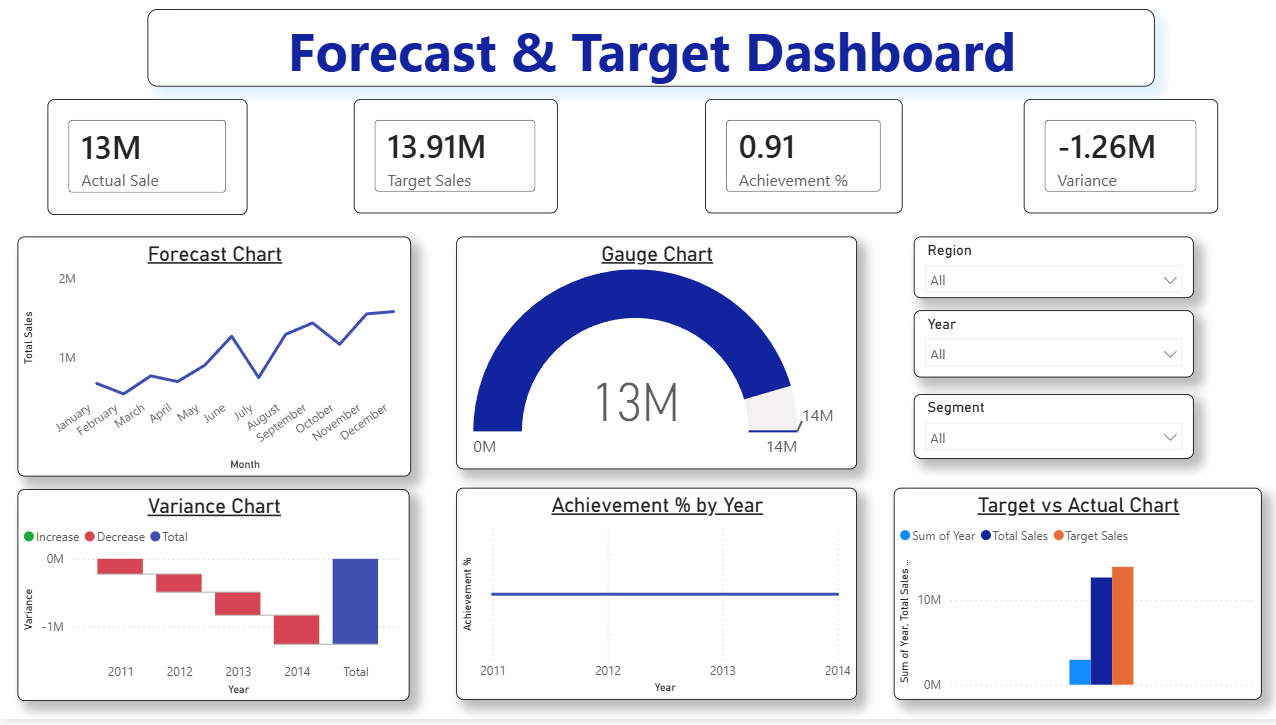

The dashboard page shown, as its layout file describes it:
{"tool":"powerbi","page":{"name":"Forecast & Targets Dashboard","canvas":[1280,720],"ordinal":5},"visuals":[{"type":"slicer","fields":{"Values":["superstore.Region"]},"box":[913.3,237.7,279.9,61.5],"z":0},{"type":"slicer","fields":{"Values":["Calender.Year"]},"box":[913.3,311.3,279.9,67.6],"z":1000},{"type":"slicer","fields":{"Values":["superstore.Segment"]},"box":[913.3,394.5,279.9,65.1],"z":2000},{"type":"cardVisual","fields":{"Data":["superstore.Total Sales"]},"box":[47.1,100.1,200.3,115.8],"z":3000},{"type":"cardVisual","fields":{"Data":["superstore.Target Sales"]},"box":[353.5,100.1,203.9,114.6],"z":4000},{"type":"cardVisual","fields":{"Data":["superstore.Achievement %"]},"box":[704.6,100.1,197.9,114.6],"z":5000},{"type":"lineChart","title":"Forecast Chart","fields":{"Y":["superstore.Total Sales"],"Category":["Calender.Date.Variation.Date Hierarchy.Month"]},"box":[16.9,237.7,393.3,240.1],"z":6000},{"type":"cardVisual","fields":{"Data":["superstore.Variance"]},"box":[1024.3,100.1,194.2,114.6],"z":7000},{"type":"gauge","title":"Gauge Chart","fields":{"Y":["superstore.Total Sales"],"TargetValue":["superstore.Target Sales"],"MaxValue":["superstore.Target Sales"]},"box":[456,237.7,400.5,232.8],"z":8000},{"type":"clusteredColumnChart","title":"Target vs Actual Chart","fields":{"Y":["Sum(Calender.Year)","superstore.Total Sales","superstore.Target Sales"]},"box":[894,488.6,368,212.3],"z":9000},{"type":"waterfallChart","title":"Variance Chart","fields":{"Category":["Calender.Year"],"Y":["superstore.Variance"]},"box":[16.9,489.8,392.1,212.3],"z":10000},{"type":"clusteredColumnChart","fields":{"Category":["Calender.Year"],"Y":["superstore.Achievement %"]},"box":[456,488.6,400.5,212.3],"z":11000},{"type":"textbox","title":"Forecast & Target Dashboard","box":[147.5,10,1007.5,77.5],"z":12000}]}

Visuals, with their boxes in screenshot pixels (x1, y1, x2, y2), scaled from the page's 1280x720 canvas onto the 1276x725 screenshot:
slicer - superstore.Region: x1=910, y1=239, x2=1189, y2=301
slicer - Calender.Year: x1=910, y1=313, x2=1189, y2=382
slicer - superstore.Segment: x1=910, y1=397, x2=1189, y2=463
cardVisual - superstore.Total Sales: x1=47, y1=101, x2=247, y2=217
cardVisual - superstore.Target Sales: x1=352, y1=101, x2=556, y2=216
cardVisual - superstore.Achievement %: x1=702, y1=101, x2=900, y2=216
"Forecast Chart" lineChart: x1=17, y1=239, x2=409, y2=481
cardVisual - superstore.Variance: x1=1021, y1=101, x2=1215, y2=216
"Gauge Chart" gauge: x1=455, y1=239, x2=854, y2=474
"Target vs Actual Chart" clusteredColumnChart: x1=891, y1=492, x2=1258, y2=706
"Variance Chart" waterfallChart: x1=17, y1=493, x2=408, y2=707
clusteredColumnChart - Calender.Year x superstore.Achievement %: x1=455, y1=492, x2=854, y2=706
"Forecast & Target Dashboard" textbox: x1=147, y1=10, x2=1151, y2=88
